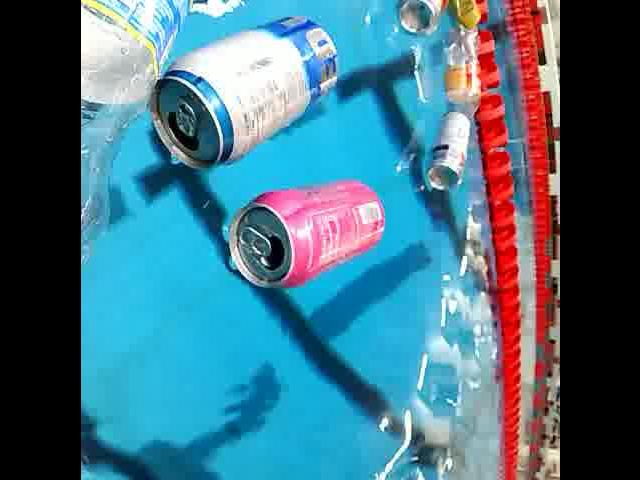Bottle: (80, 0, 214, 280), (444, 21, 486, 130)
Can: (142, 13, 344, 177), (224, 172, 388, 298), (422, 109, 472, 197), (391, 0, 451, 41), (436, 0, 482, 30)
